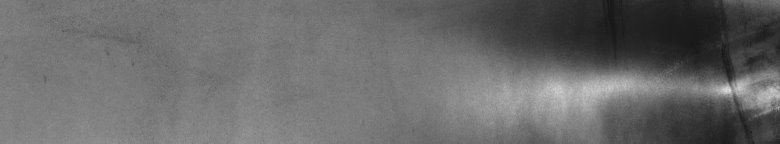ke: (584, 4, 776, 136)
